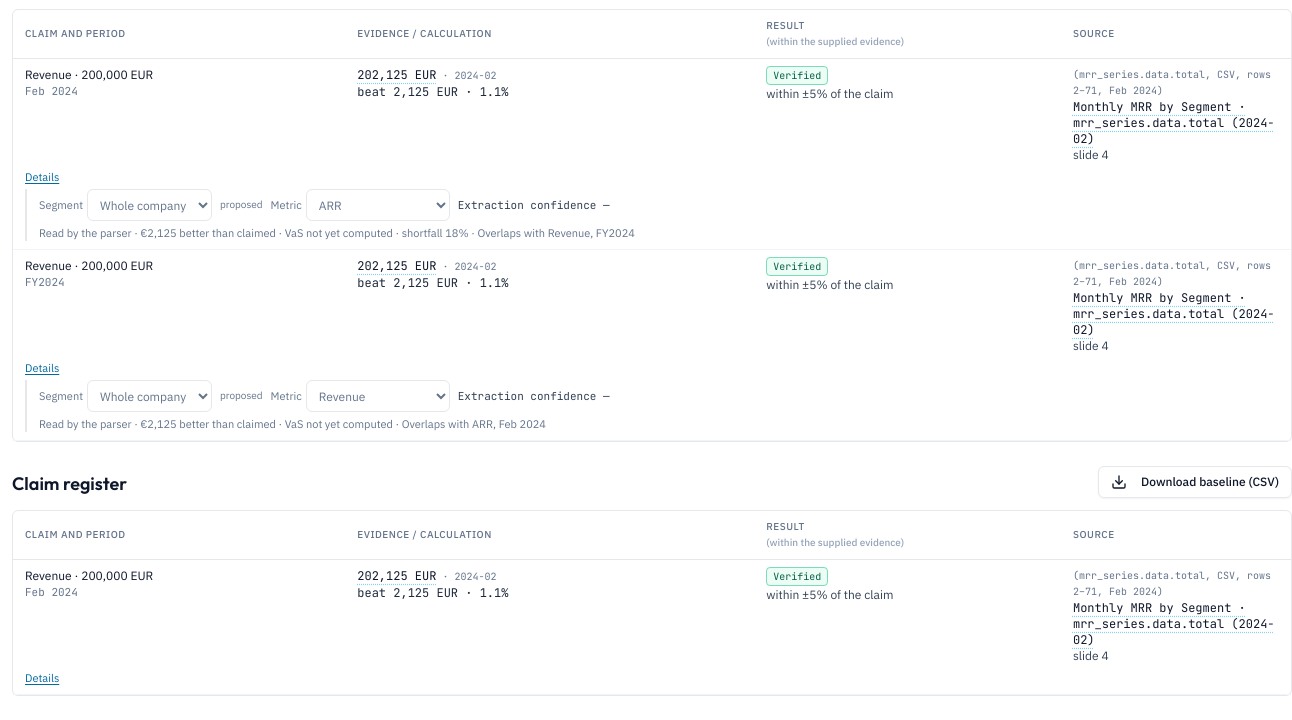
the segment and metric are selects of the right options, under Details; the rest is text
(page scrolled)
Click the button with test id "register-group-toggle" at [42, 678], box x1=25 y1=670 x2=59 y2=686
(page scrolled)
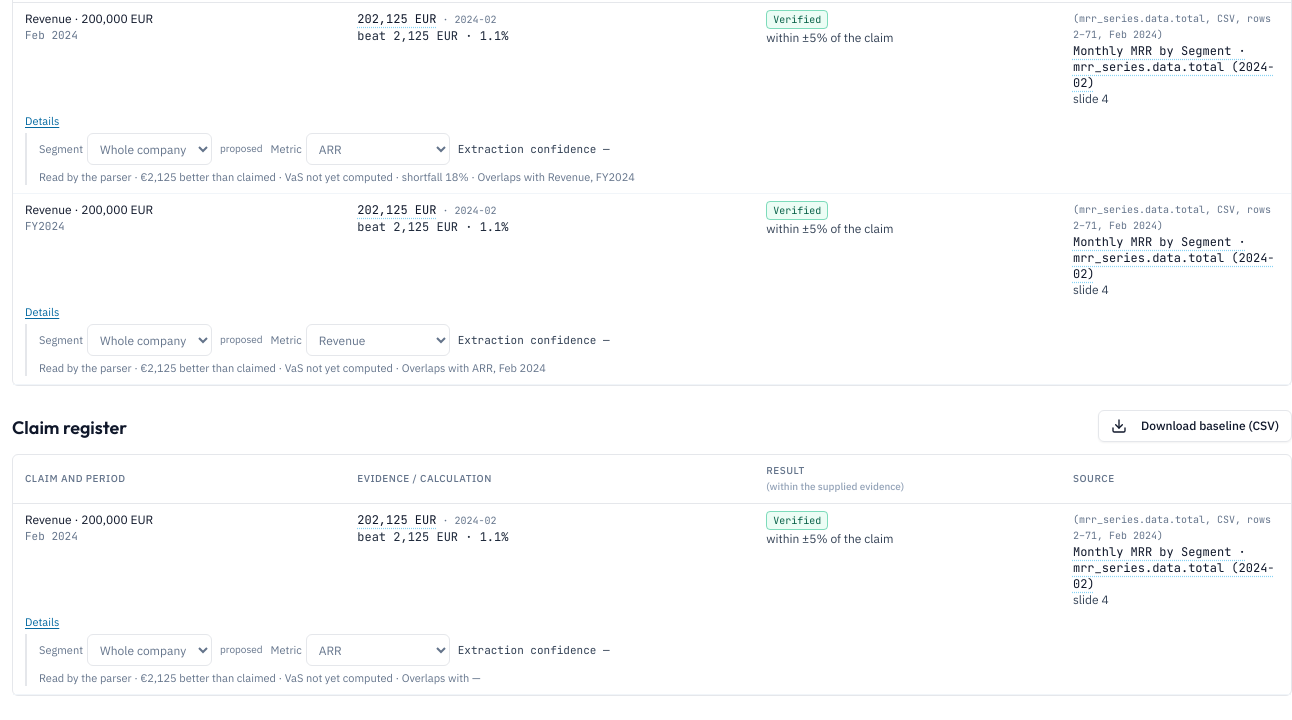
Expected: the 3rd dropdown with test id "register-metric" shows "ARR", x1=306 y1=634 x2=450 y2=666
